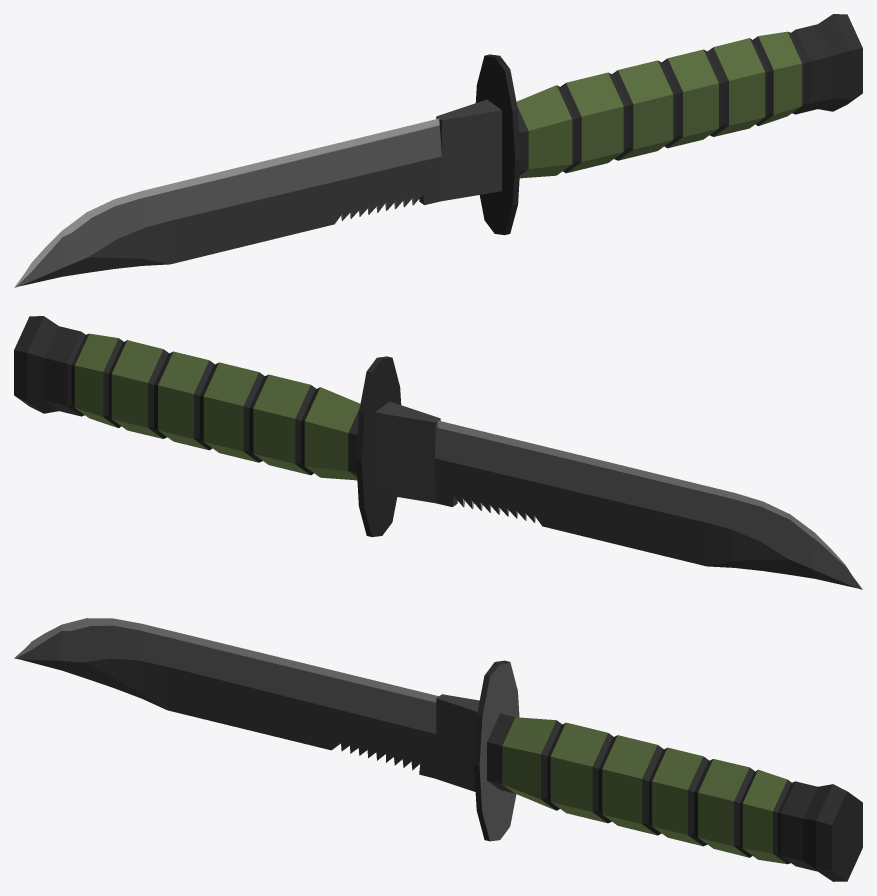
File: CombatKnife.fbx
3 views of the same model, one above another, from view 1: azimuth 30°, elevation 25°; view 2: azimuth 150°, elevation 25°; view 3: azimuth 330°, elevation 25° (orthographic).
Visible parts, largest first — view 1: ZomboidCombatKnife; view 2: ZomboidCombatKnife; view 3: ZomboidCombatKnife.
Part boxes in pixels (x1,y1,x2,y2): ZomboidCombatKnife: [14, 14, 862, 287]; ZomboidCombatKnife: [14, 316, 862, 589]; ZomboidCombatKnife: [14, 618, 862, 881].
Size of the model in its own units: 0.3107 by 0.063 by 0.0265.
